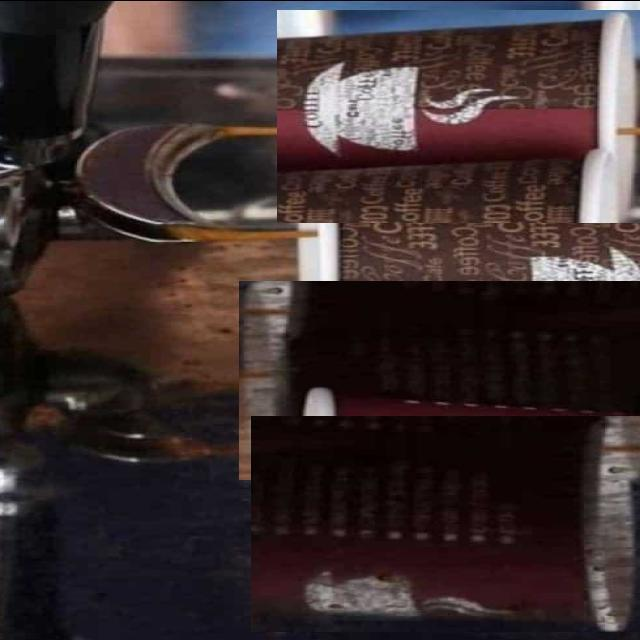Cup: (251, 415, 640, 631), (239, 280, 640, 479), (292, 147, 640, 374), (277, 9, 640, 222)
